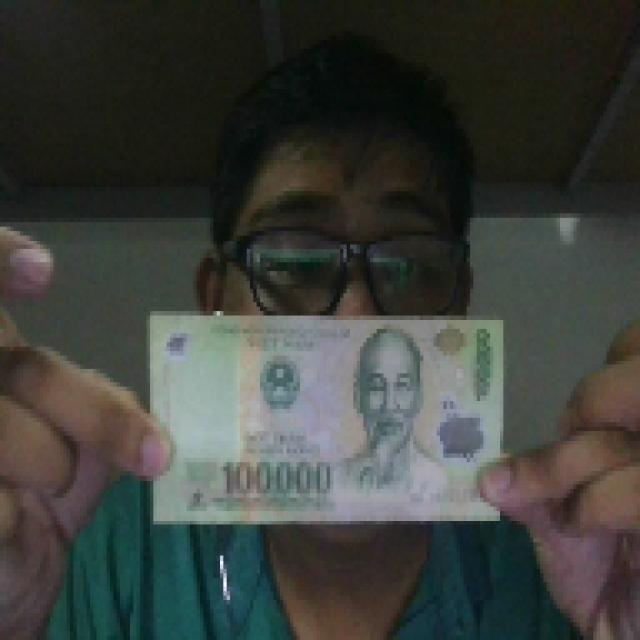100 000 VND: (144, 302, 510, 529)
